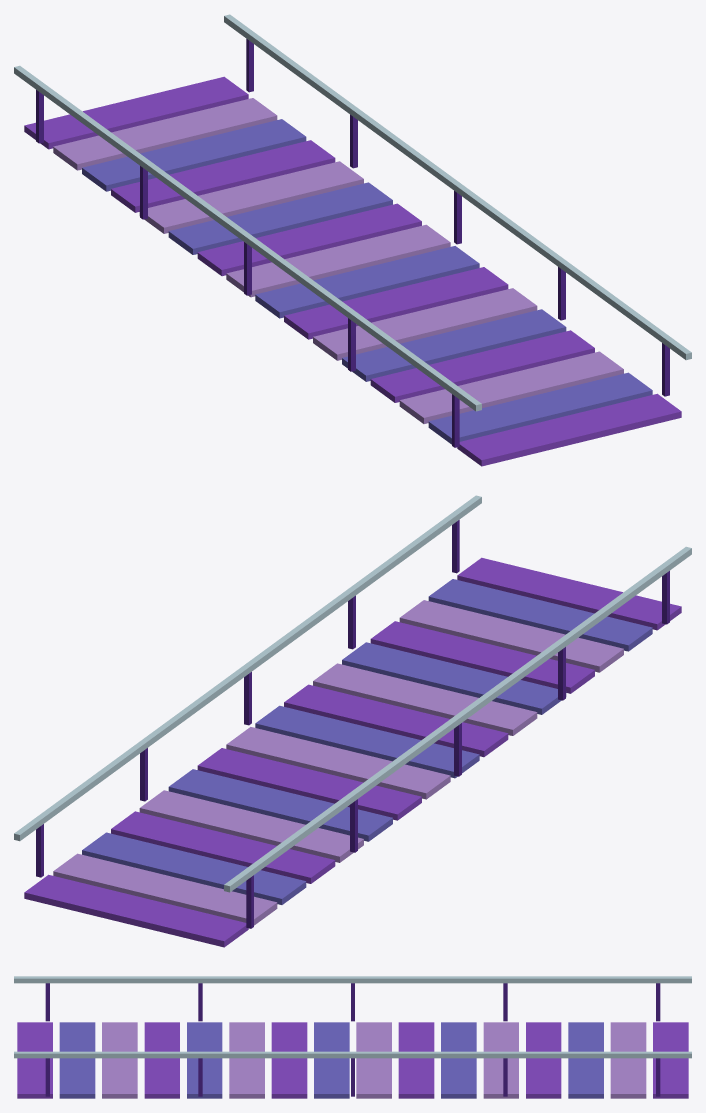
The model's file is light_bridge.glb.
3 views of the same model, one above another, from view 1: azimuth 30°, elevation 25°; view 2: azimuth 150°, elevation 25°; view 3: azimuth 270°, elevation 25° (orthographic). The views are drawn at different scales.
Parts seen in each view (by area): view 1: light_bridge; view 2: light_bridge; view 3: light_bridge.
Boxes of the visible parts, bbox=[...] form: light_bridge: bbox=[14, 14, 691, 466]; light_bridge: bbox=[14, 495, 691, 947]; light_bridge: bbox=[14, 976, 691, 1098].
Size of the model in its own units: 2.16 by 0.62 by 8.
